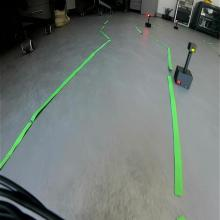green: (187, 41, 198, 53)
